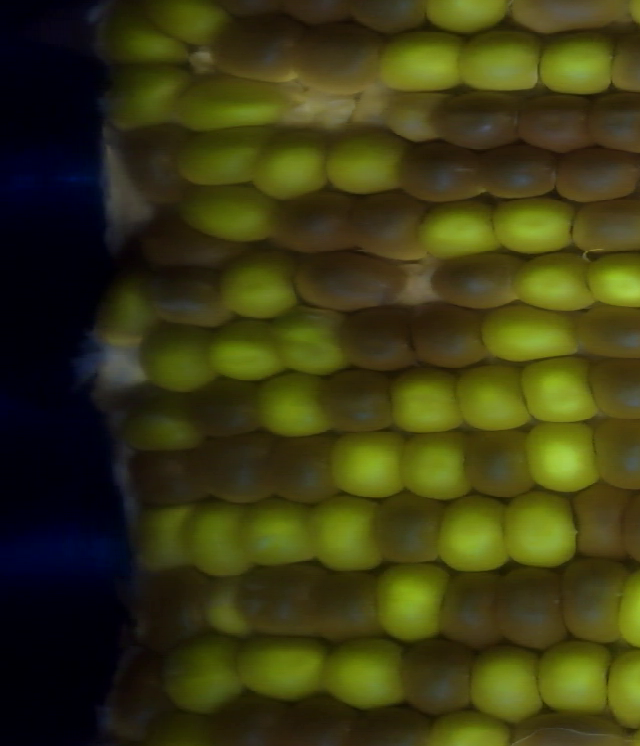fluorescent: (458, 640, 549, 723), (160, 632, 247, 713), (502, 486, 583, 572), (433, 490, 513, 577), (305, 491, 386, 576), (183, 180, 283, 248), (236, 629, 329, 701), (217, 243, 300, 323), (372, 25, 465, 96), (130, 320, 220, 393), (479, 298, 577, 365), (177, 74, 288, 132), (375, 555, 447, 644), (323, 634, 405, 711), (520, 355, 604, 428), (393, 430, 475, 504), (455, 28, 544, 96), (529, 28, 618, 96), (451, 357, 535, 429), (538, 634, 614, 713), (386, 364, 468, 437), (236, 495, 319, 567), (256, 124, 331, 201), (208, 314, 288, 386), (507, 248, 594, 313), (525, 418, 600, 493), (98, 64, 182, 130), (329, 128, 408, 197), (329, 430, 408, 498), (489, 195, 577, 256), (184, 497, 251, 577), (89, 12, 184, 67), (282, 304, 354, 376), (256, 366, 331, 435), (179, 125, 260, 188), (418, 201, 504, 255), (124, 397, 205, 454), (91, 280, 148, 350), (139, 504, 188, 578), (423, 711, 521, 746), (603, 644, 640, 727), (420, 1, 510, 35), (588, 250, 640, 306), (146, 1, 215, 41)
nonfluorescent: (289, 245, 413, 312), (491, 565, 576, 649), (239, 560, 328, 640), (330, 299, 418, 374), (557, 556, 624, 653), (212, 13, 302, 85), (425, 90, 525, 154), (434, 245, 523, 316), (135, 566, 213, 645), (299, 18, 379, 95), (405, 298, 496, 364), (261, 192, 363, 250), (130, 216, 236, 271), (402, 634, 473, 714), (461, 429, 536, 504), (305, 570, 384, 641), (356, 185, 426, 265), (368, 491, 441, 567), (399, 139, 488, 201), (515, 85, 596, 153), (204, 433, 278, 507), (268, 430, 338, 508), (129, 445, 210, 509), (321, 365, 396, 434), (551, 145, 640, 202), (189, 372, 267, 437), (124, 123, 188, 202), (438, 569, 500, 650), (488, 134, 556, 203), (572, 195, 640, 259), (145, 267, 220, 325), (573, 483, 629, 559), (214, 687, 284, 746), (516, 713, 640, 746), (508, 1, 629, 34), (283, 691, 354, 746), (586, 353, 640, 422), (349, 701, 430, 746), (592, 419, 640, 492), (578, 306, 640, 361), (596, 83, 640, 157), (347, 1, 435, 30)
